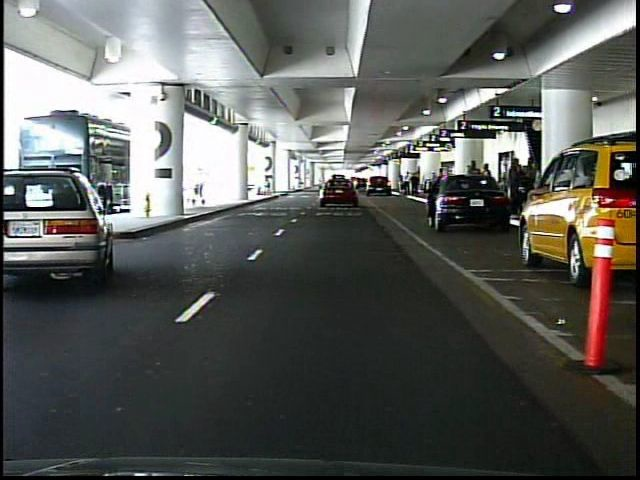person: (504, 159, 524, 218), (520, 156, 538, 221), (466, 158, 483, 209), (481, 162, 496, 209), (403, 170, 412, 197), (411, 173, 420, 198), (398, 175, 405, 193)
